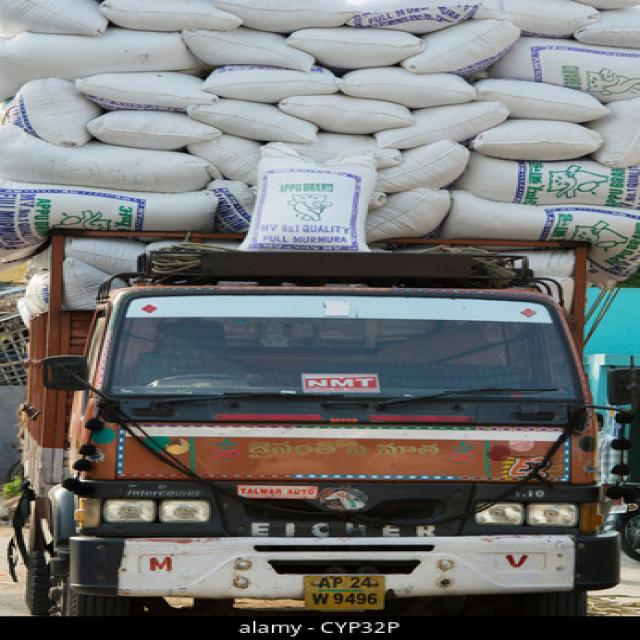goods: (0, 0, 640, 314), (62, 239, 240, 309), (512, 251, 574, 299)
truck: (16, 231, 618, 615)
